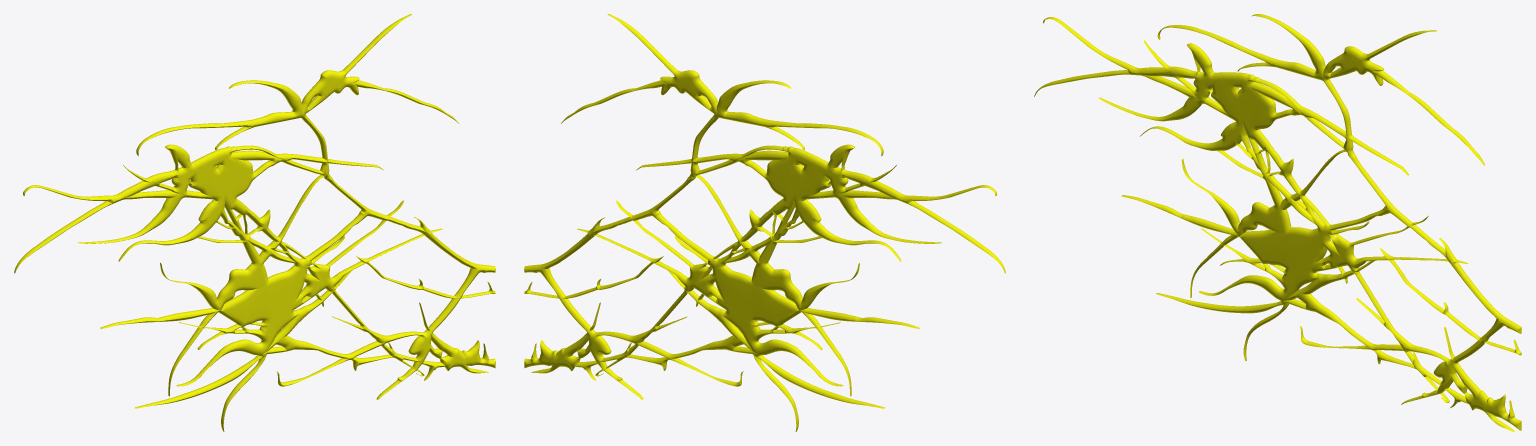
File: plant1.gltf
3 views of the same model, side by side, from view 1: azimuth 30°, elevation 25°; view 2: azimuth 150°, elevation 25°; view 3: azimuth 330°, elevation 25° (orthographic).
Bounding box in the file's own units: 3.16 × 2.37 × 0.0527.
